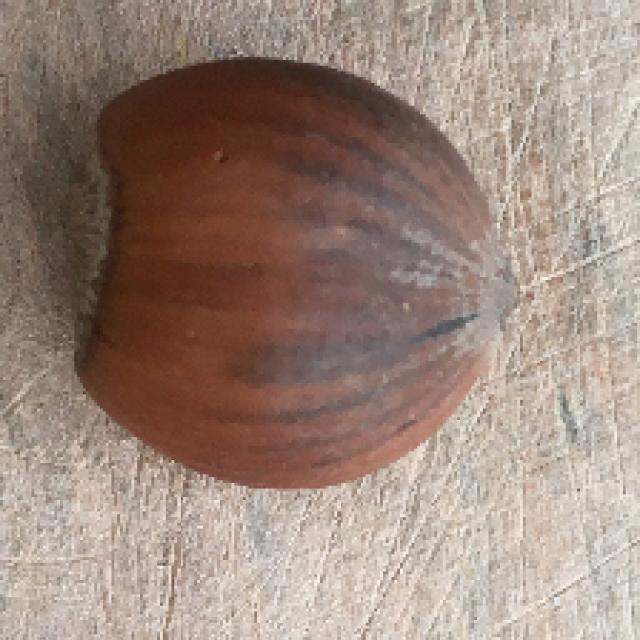DamagedHazelnut: (61, 61, 527, 488)
